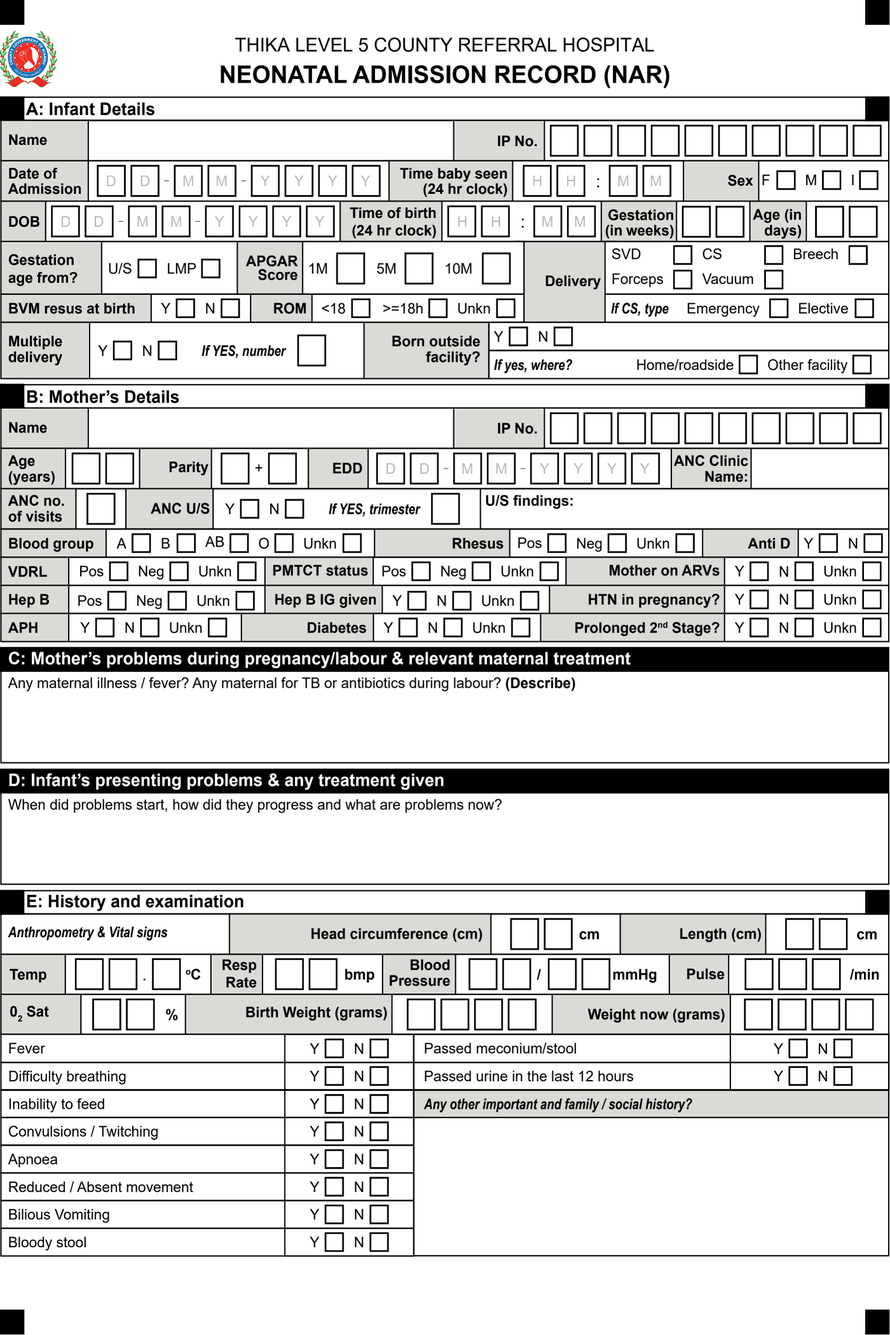age_days_1: (814, 205, 845, 238)
age_days_2: (848, 205, 879, 238)
age_years_1: (71, 452, 101, 485)
age_years_2: (104, 452, 135, 485)
anc_us_no: (284, 498, 305, 520)
anc_us_yes: (238, 498, 261, 520)
anc_visits_num: (86, 492, 116, 526)
anc_visits_trimester: (430, 492, 461, 526)
anti_d_no: (862, 532, 884, 554)
anti_d_yes: (818, 532, 839, 554)
apgar_10m_1: (481, 252, 512, 285)
apgar_1m_1: (336, 252, 366, 285)
apgar_5m_1: (404, 252, 434, 285)
aph_no: (139, 617, 161, 639)
aph_unknown: (207, 617, 228, 639)
aph_yes: (94, 617, 116, 639)
apnoea_no: (368, 1148, 390, 1170)
apnoea_yes: (324, 1148, 345, 1170)
bba_facility: (851, 353, 873, 376)
bba_home: (737, 353, 759, 376)
bba_no: (552, 325, 574, 348)
bba_yes: (507, 325, 530, 348)
birth_weight_1: (406, 998, 436, 1031)
birth_weight_2: (440, 998, 470, 1031)
birth_weight_3: (474, 998, 503, 1031)
birth_weight_4: (507, 998, 537, 1031)
blood_group_a: (130, 532, 153, 554)
blood_group_ab: (228, 532, 250, 554)
blood_group_b: (175, 532, 197, 554)
blood_group_o: (273, 532, 295, 554)
blood_group_unknown: (341, 532, 363, 554)
blood_pressure_1: (468, 957, 498, 991)
blood_pressure_2: (502, 957, 532, 991)
blood_pressure_3: (547, 957, 577, 991)
blood_pressure_4: (581, 957, 611, 991)
bvm_resuscitation_no: (219, 297, 242, 319)
bvm_resuscitation_yes: (174, 297, 196, 319)
convulsions_no: (368, 1120, 390, 1142)
convulsions_yes: (324, 1120, 345, 1142)
cs_elective: (853, 297, 875, 319)
cs_emergency: (768, 297, 790, 319)
date_admission_1: (96, 164, 127, 198)
date_admission_2: (130, 164, 160, 198)
date_admission_3: (173, 164, 203, 198)
date_admission_4: (207, 164, 237, 198)
date_admission_5: (250, 164, 280, 198)
date_admission_6: (284, 164, 314, 198)
date_admission_7: (317, 164, 348, 198)
date_admission_8: (351, 164, 381, 198)
date_birth_1: (50, 205, 81, 238)
date_birth_2: (84, 205, 114, 238)
date_birth_3: (127, 205, 158, 238)
date_birth_4: (161, 205, 191, 238)
date_birth_5: (204, 205, 235, 238)
date_birth_6: (238, 205, 268, 238)
date_birth_7: (271, 205, 302, 238)
date_birth_8: (305, 205, 336, 238)
date_edd_1: (376, 452, 406, 485)
date_edd_2: (409, 452, 439, 485)
date_edd_3: (453, 452, 483, 485)
date_edd_4: (486, 452, 516, 485)
date_edd_5: (530, 452, 559, 485)
date_edd_6: (563, 452, 593, 485)
date_edd_7: (597, 452, 627, 485)
date_edd_8: (631, 452, 661, 485)
delivery_breech: (847, 244, 869, 266)
delivery_cs: (763, 244, 784, 266)
delivery_forceps: (672, 268, 694, 291)
delivery_svd: (672, 244, 694, 266)
delivery_vacuum: (763, 268, 784, 291)
diabetes_negative: (442, 617, 464, 639)
diabetes_positive: (397, 617, 420, 639)
diabetes_unknown: (510, 617, 531, 639)
diarhoea_no: (368, 1231, 390, 1253)
diarhoea_yes: (324, 1231, 345, 1253)
difficulty_breathing_no: (368, 1065, 390, 1087)
difficulty_breathing_yes: (324, 1065, 345, 1087)
difficulty_feeding_no: (368, 1093, 390, 1115)
difficulty_feeding_yes: (324, 1093, 345, 1115)
fever_no: (368, 1037, 390, 1060)
fever_yes: (324, 1037, 345, 1060)
floppy_no: (368, 1175, 390, 1198)
floppy_yes: (324, 1175, 345, 1198)
gestation_1: (681, 205, 711, 238)
gestation_2: (715, 205, 745, 238)
gestation_lmp: (200, 257, 222, 280)
gestation_us: (136, 257, 158, 280)
head_circumfrence_1: (509, 917, 540, 950)
head_circumfrence_2: (543, 917, 573, 950)
hepb_ig_given_negative: (451, 589, 473, 612)
hepb_ig_given_positive: (406, 589, 428, 612)
hepb_ig_given_unknown: (519, 589, 541, 612)
hepb_no: (166, 589, 188, 612)
hepb_unknown: (234, 590, 256, 612)
hepb_yes: (106, 589, 128, 612)
htn_pregnancy_negative: (793, 588, 815, 610)
htn_pregnancy_positive: (748, 589, 770, 611)
htn_pregnancy_unknown: (861, 588, 883, 610)
length_1: (784, 917, 815, 950)
length_2: (818, 917, 849, 950)
meconium_no: (832, 1037, 854, 1060)
meconium_yes: (787, 1037, 809, 1060)
multiple_delivery_no: (156, 339, 179, 362)
multiple_delivery_num: (296, 334, 327, 367)
multiple_delivery_yes: (112, 339, 134, 362)
mum_arvs_negative: (793, 560, 815, 582)
mum_arvs_positive: (748, 560, 770, 582)
mum_arvs_unknown: (861, 560, 883, 582)
parity_dead: (268, 452, 298, 485)
parity_live: (220, 452, 250, 485)
pmtct_positive: (410, 560, 432, 582)
pmtct_unknown: (470, 560, 492, 582), (538, 560, 560, 582)
prolonged_stage2_negative: (793, 617, 815, 639)
prolonged_stage2_positive: (748, 617, 770, 639)
prolonged_stage2_unknown: (861, 617, 883, 639)
pulse_oximetry_1: (92, 998, 122, 1031)
pulse_oximetry_2: (125, 998, 156, 1031)
pulse_rate_1: (744, 957, 774, 991)
pulse_rate_2: (777, 957, 808, 991)
pulse_rate_3: (811, 957, 842, 991)
resp_rate_1: (274, 957, 305, 991)
resp_rate_2: (308, 957, 338, 991)
rhesus_negative: (606, 532, 628, 554)
rhesus_positive: (546, 532, 568, 554)
rhesus_unknown: (674, 532, 696, 554)
rom_ge18: (427, 297, 449, 319)
rom_lt18: (350, 297, 372, 319)
rom_unknown: (495, 297, 517, 319)
sex_female: (775, 169, 797, 191)
sex_intermediate: (858, 169, 880, 191)
sex_male: (821, 169, 843, 191)
temp_1: (74, 957, 104, 991)
temp_2: (108, 957, 138, 991)
temp_3: (151, 957, 182, 991)
time_birth_1: (447, 205, 477, 238)
time_birth_2: (481, 205, 510, 238)
time_birth_3: (533, 205, 563, 238)
time_birth_4: (566, 205, 596, 238)
time_seen_1: (522, 164, 552, 198)
time_seen_2: (556, 164, 586, 198)
time_seen_3: (608, 164, 638, 198)
time_seen_4: (642, 164, 672, 198)
urine_no: (832, 1065, 854, 1087)
urine_yes: (787, 1065, 809, 1087)
vdrl_no: (168, 560, 190, 582)
vdrl_unknown: (236, 560, 257, 582)
vdrl_yes: (108, 560, 130, 582)
vomiting_no: (368, 1203, 390, 1226)
vomiting_yes: (324, 1203, 345, 1226)
weight_now_1: (743, 998, 774, 1031)
weight_now_2: (777, 998, 807, 1031)
weight_now_3: (811, 998, 841, 1031)
weight_now_4: (844, 998, 875, 1031)
